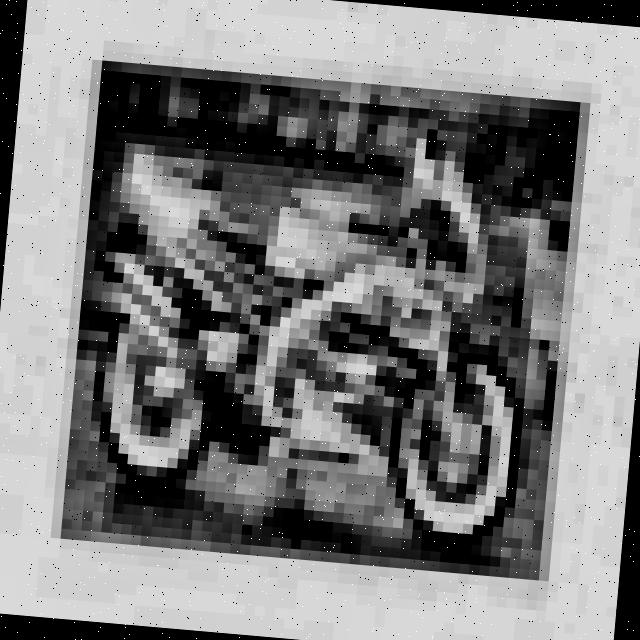mopeds: (74, 117, 554, 547)
